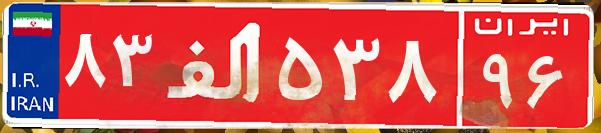3: (330, 28, 385, 110), (110, 28, 158, 105)
5: (273, 28, 330, 110)
6: (525, 38, 570, 115)
8: (385, 28, 445, 110), (57, 26, 110, 107)
9: (475, 38, 525, 113)
الف: (158, 15, 273, 115)
